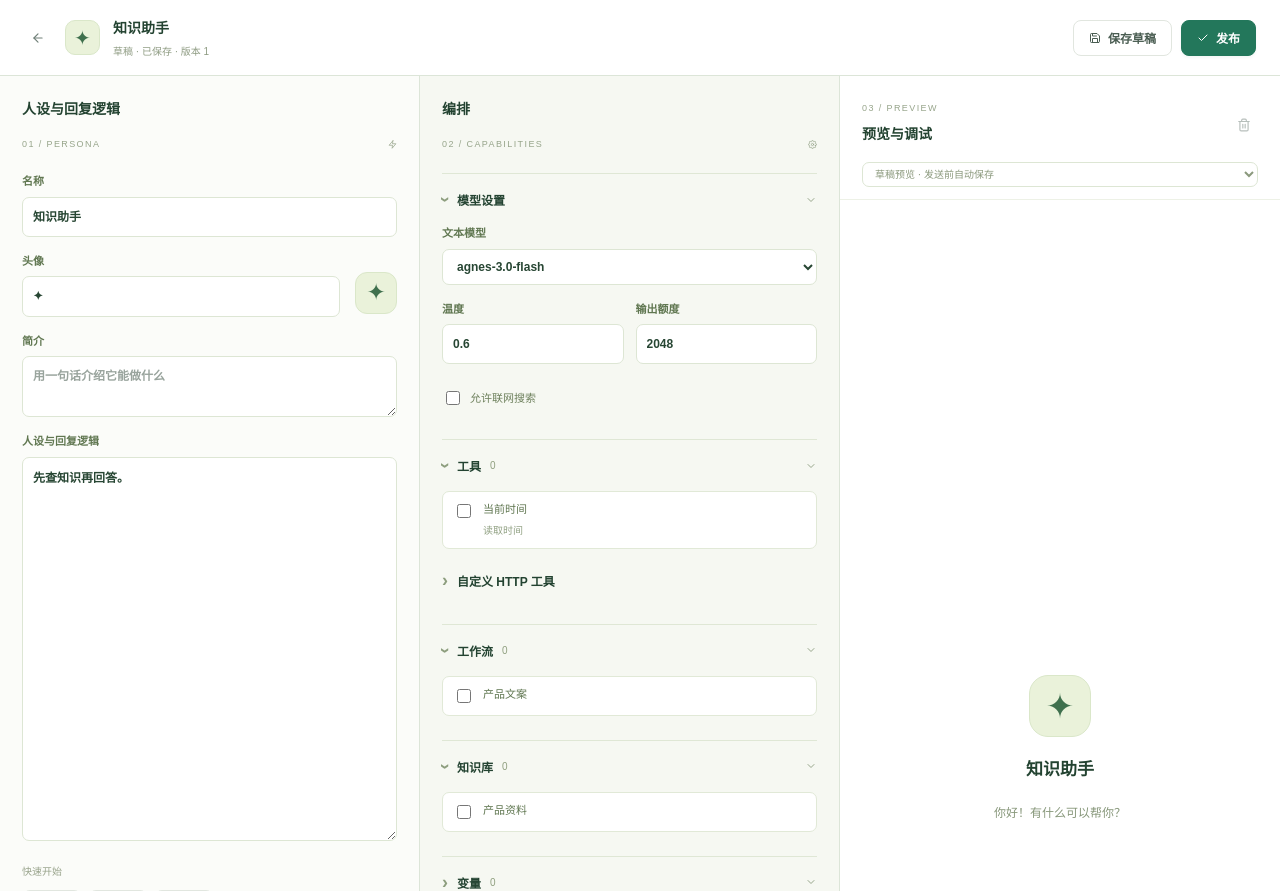
Test: 发布前保存最新版本，发布后可取消
Check: the field showing "知识助手" is shown, box [22,196,397,237]
Click the button "发布".
click(1218, 38)  # box [1181,20,1256,56]
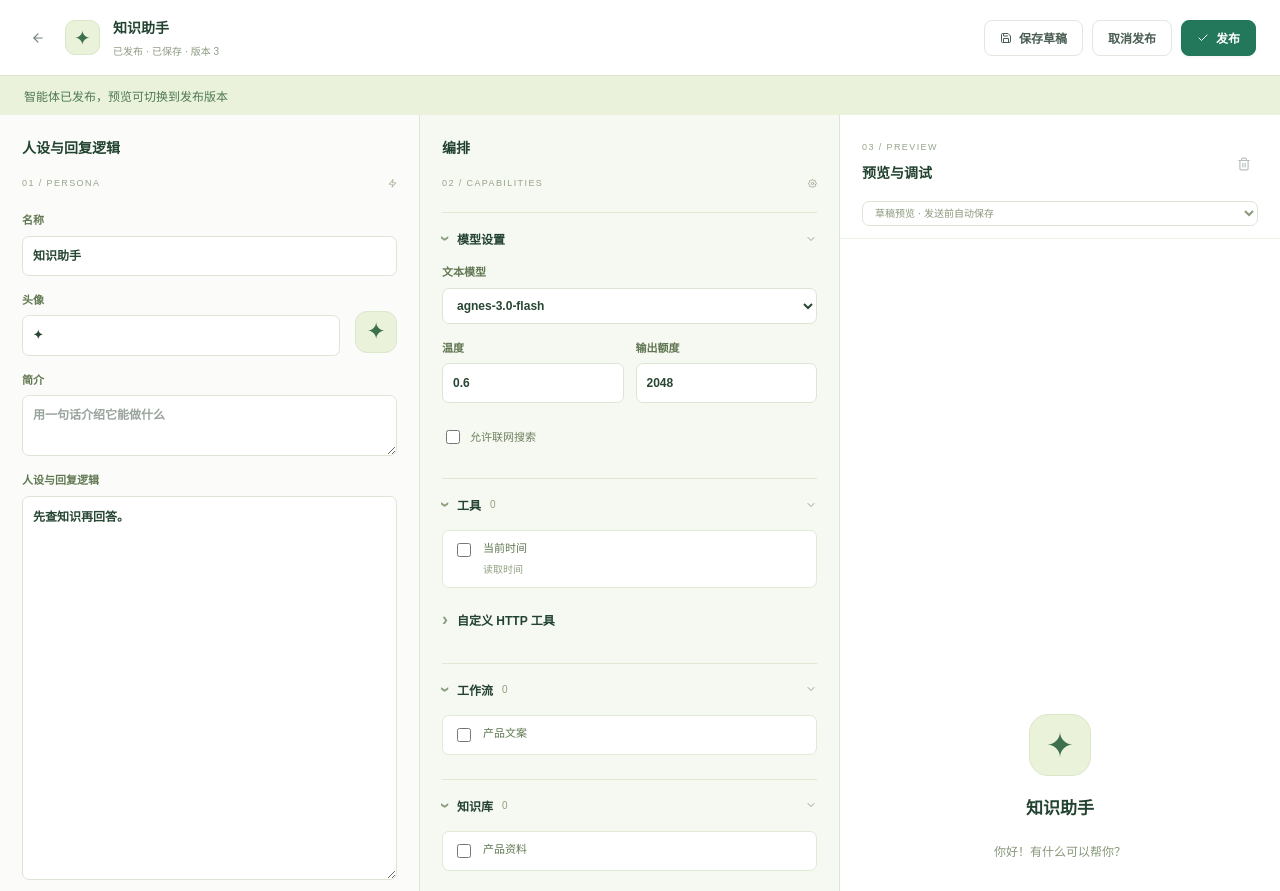
Check: the button "取消发布" is shown
Click the button "取消发布".
click(1132, 38)  # box [1092,20,1172,56]
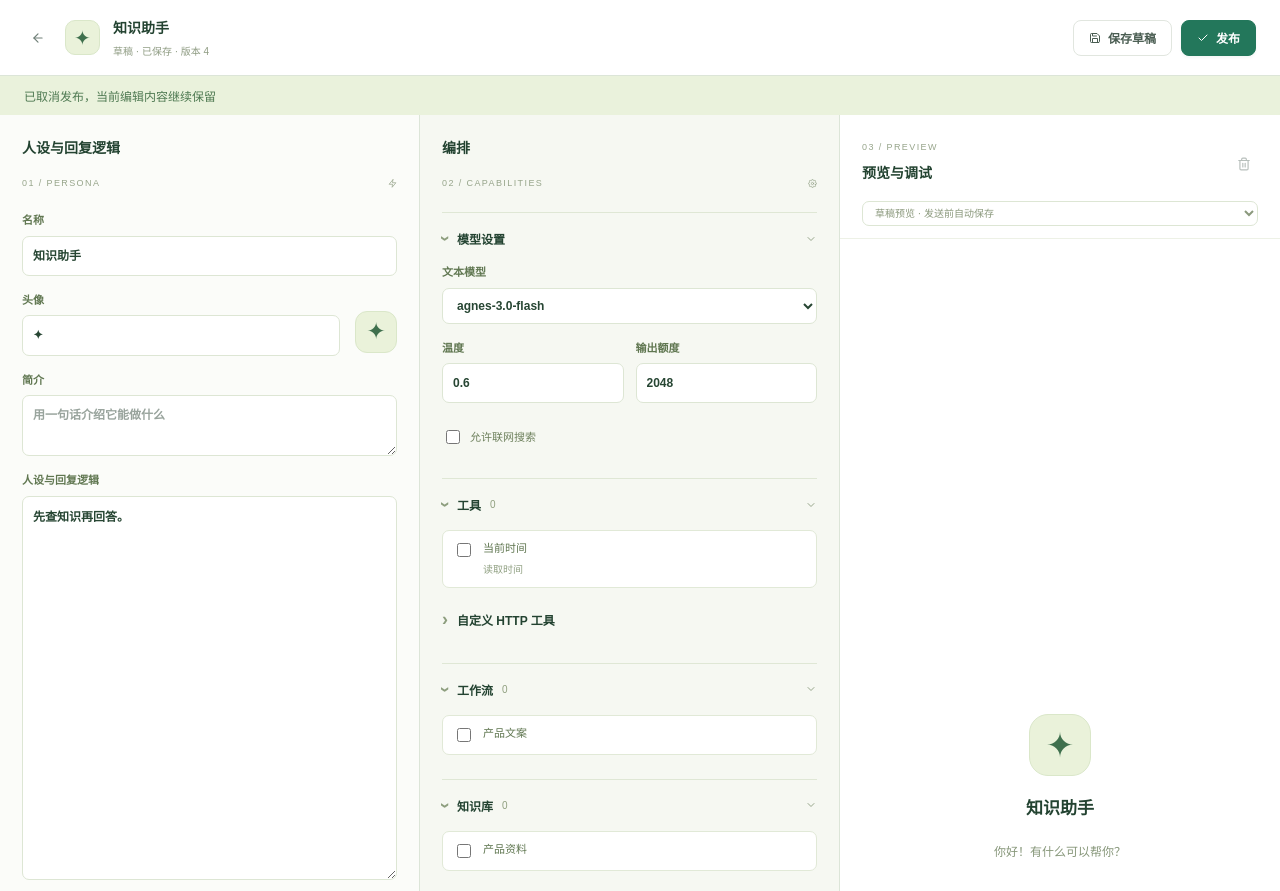
Check: the text "已取消发布，当前编辑内容继续保留" is shown, box [0,76,1279,115]
